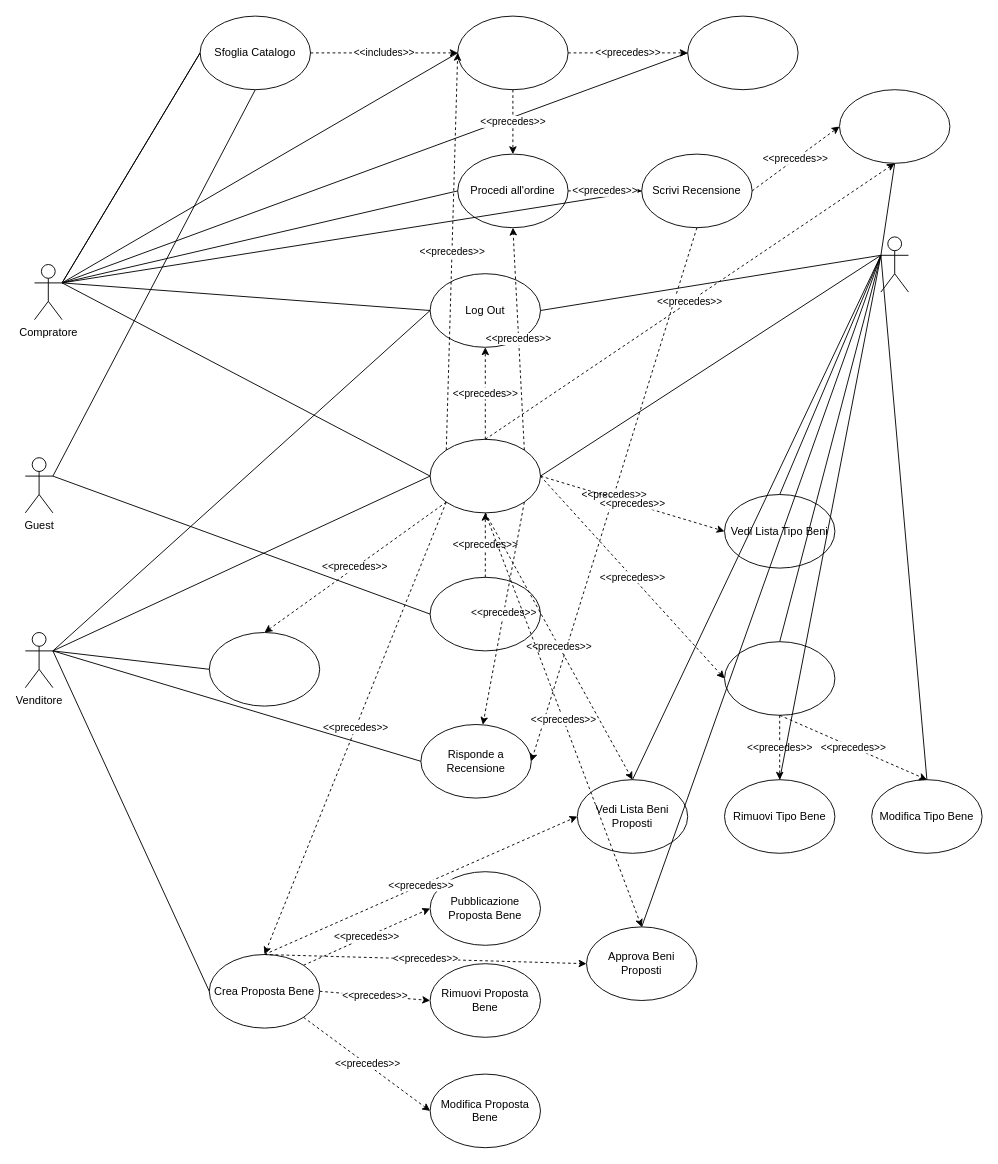
The diagram is 998 pixels wide and 1164 high, and some of its shapes have lost their labels. The centre of each missing label's shape, as x and y in pixels:
Aggiunge a Shopping Cart: the point at 512,52
Amministratore: the point at 894,264
Crea Tipo Bene: the point at 779,678
Log In: the point at 484,475
Mostra Catalogo Personale: the point at 264,669
Registrazione: the point at 484,613
Rimuove Recensione: the point at 894,126
Togli da Shopping Cart: the point at 742,52
